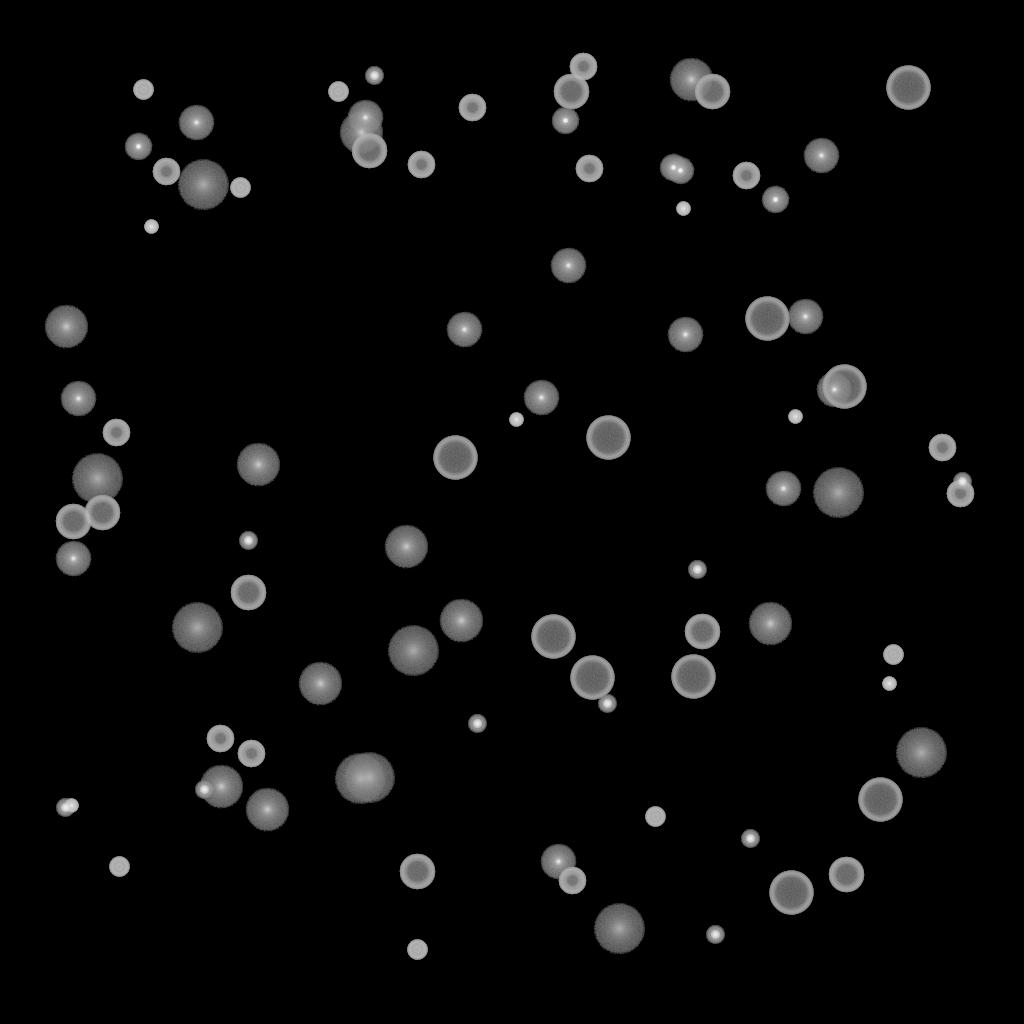depth:-10: (666, 157, 694, 185), (761, 186, 789, 214), (551, 107, 579, 135), (124, 133, 152, 161), (659, 154, 687, 182)
depth:-20: (239, 532, 257, 550), (741, 830, 759, 848), (365, 67, 383, 85), (598, 695, 616, 713), (56, 799, 74, 817), (688, 561, 706, 579), (195, 781, 213, 799), (468, 715, 486, 733), (706, 926, 724, 944), (953, 473, 971, 491)
depth:-30: (676, 202, 690, 216), (788, 410, 802, 424), (509, 413, 523, 427), (882, 677, 896, 691), (144, 220, 158, 234), (64, 799, 78, 813)
depth:-40: (645, 807, 665, 827), (328, 82, 348, 102), (407, 940, 427, 960), (109, 857, 129, 877), (883, 645, 903, 665), (230, 178, 250, 198), (133, 80, 153, 100)
depth:-50: (569, 53, 597, 81), (732, 162, 760, 190), (946, 480, 974, 508), (152, 158, 180, 186), (237, 740, 265, 768), (458, 94, 486, 122), (206, 725, 234, 753), (102, 419, 130, 447), (575, 155, 603, 183), (558, 867, 586, 895), (407, 151, 435, 179), (928, 434, 956, 462)
depth:-60: (55, 504, 91, 540), (84, 495, 120, 531), (828, 857, 864, 893), (684, 614, 720, 650), (553, 74, 589, 110), (230, 575, 266, 611), (351, 133, 387, 169), (399, 854, 435, 890), (694, 74, 730, 110)
depth:-70: (671, 655, 715, 699), (586, 416, 630, 460), (822, 365, 866, 409), (886, 66, 930, 110), (745, 297, 789, 341), (433, 436, 477, 480), (531, 615, 575, 659), (769, 871, 813, 915), (858, 778, 902, 822), (570, 656, 614, 700)
depth:0: (667, 317, 703, 353), (787, 299, 823, 335), (446, 312, 482, 348), (765, 471, 801, 507), (803, 138, 839, 174), (540, 844, 576, 880), (60, 381, 96, 417), (55, 541, 91, 577), (816, 372, 852, 408), (178, 105, 214, 141), (347, 100, 383, 136), (550, 248, 586, 284), (523, 380, 559, 416)
depth:10: (669, 58, 713, 102), (748, 602, 792, 646), (439, 599, 483, 643), (245, 788, 289, 832), (199, 765, 243, 809), (339, 111, 383, 155), (236, 443, 280, 487), (44, 305, 88, 349), (298, 662, 342, 706), (384, 525, 428, 569)
depth:20: (812, 468, 864, 518), (177, 160, 229, 210), (387, 626, 439, 676), (71, 454, 123, 504), (334, 754, 386, 804), (895, 728, 947, 778), (593, 904, 645, 954), (343, 753, 395, 803), (171, 603, 223, 653)
